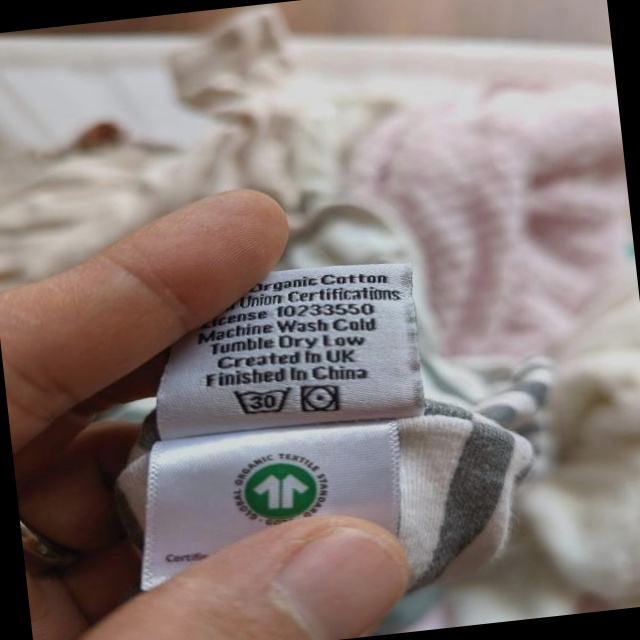30C: (228, 380, 296, 421)
tumble_dry_low: (297, 379, 344, 419)
